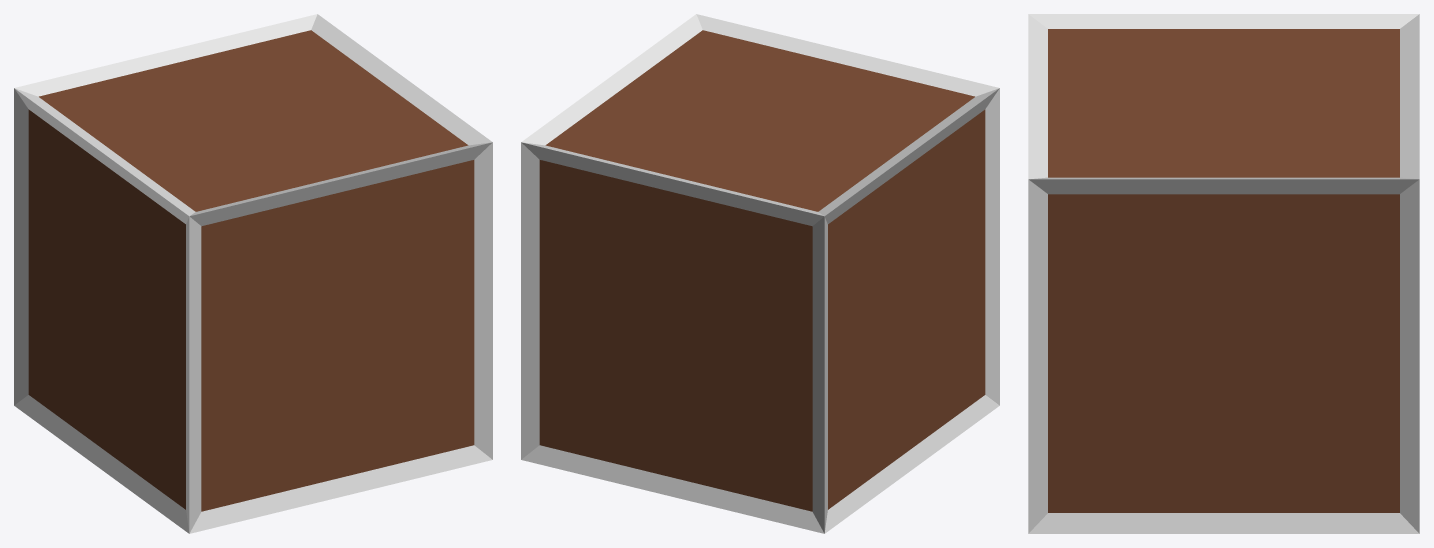
Rendered from ChiaveCubo.fbx.
3 renders of one model, left to right at view 1: azimuth 30°, elevation 25°; view 2: azimuth 150°, elevation 25°; view 3: azimuth 270°, elevation 25°, orthographic. The views are drawn at different scales.
Parts seen in each view (by area): view 1: ChiaveCubo; view 2: ChiaveCubo; view 3: ChiaveCubo.
Boxes of the visible parts, <box> form: ChiaveCubo: <box>14,14,492,533</box>; ChiaveCubo: <box>521,14,999,533</box>; ChiaveCubo: <box>1028,14,1419,533</box>.
Bounding box in the file's own units: 31.15 × 31.15 × 31.15.
